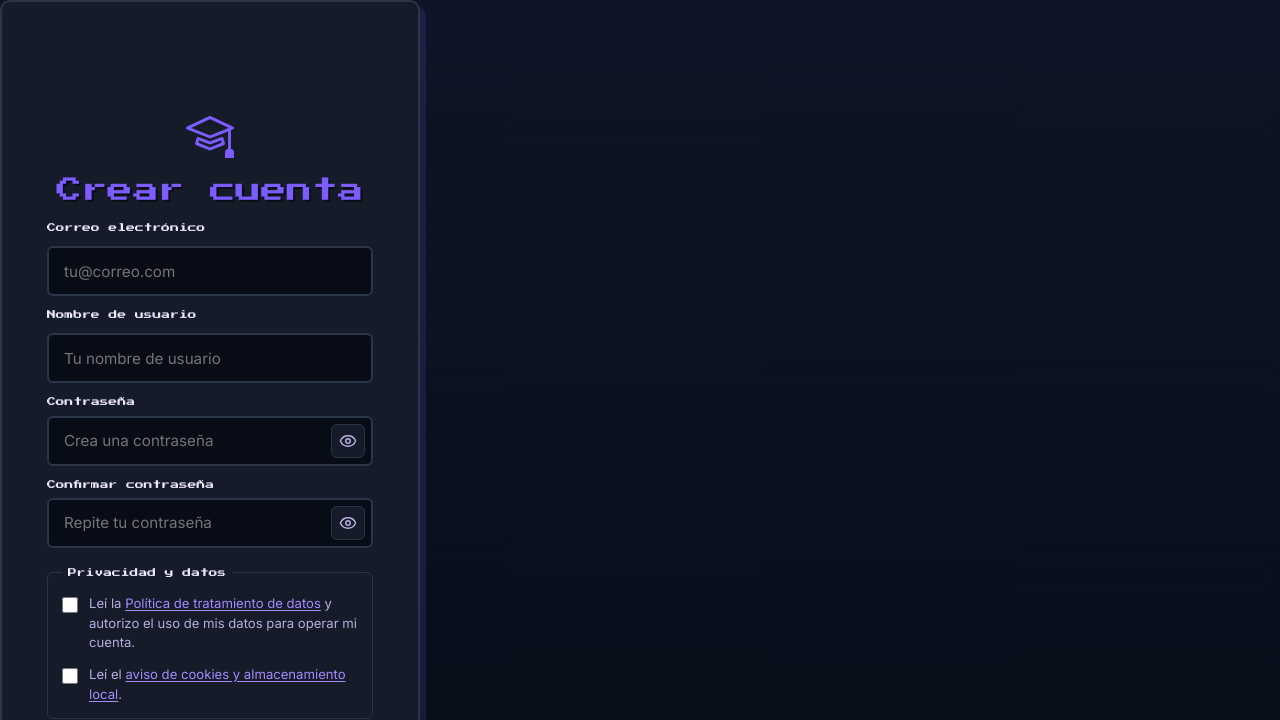
Test: CP-2 - Registro de usuario › rechaza una contraseña menor a ocho caracteres
The width and height of the screenshot is (1280, 720).
Type "prueba@acadex.com" into the field labelled "Correo electrónico" at point(210, 271), box [47,246,373,296]
Type "Usuario Prueba" into the field labelled "Nombre de usuario" at point(210, 358), box [47,333,373,383]
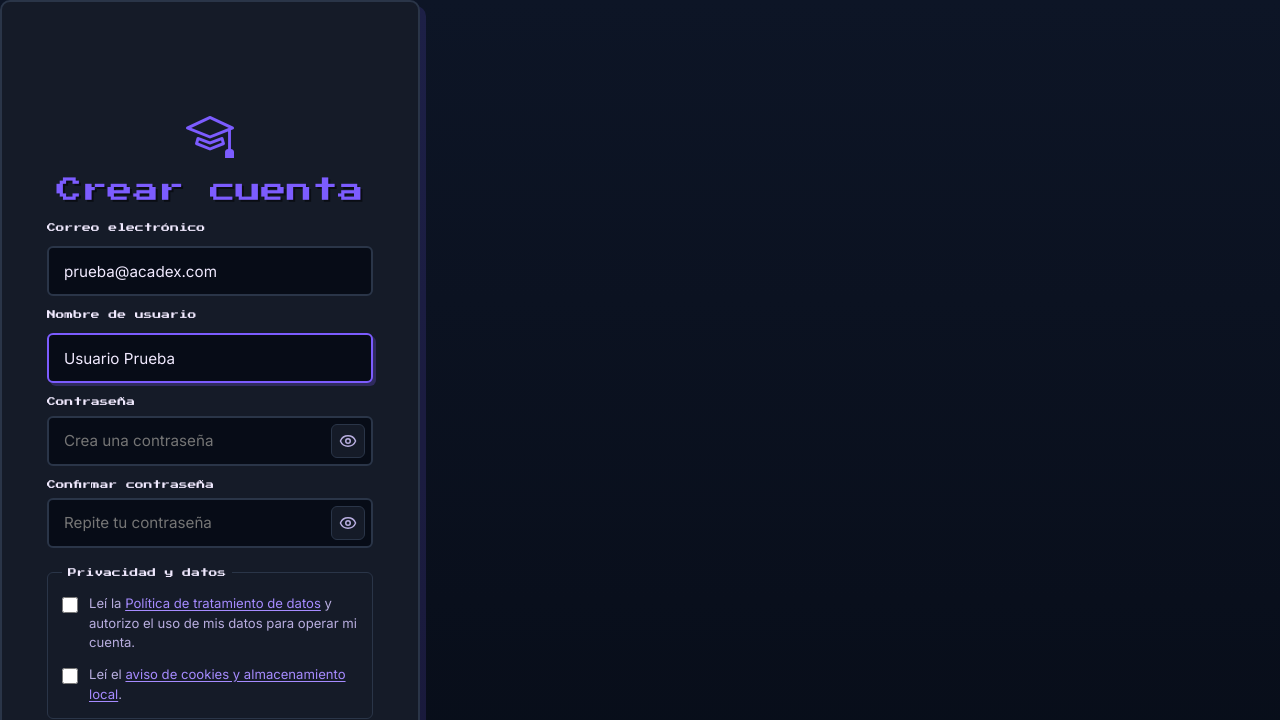
Type "1234567" into the password field labelled "Contraseña" at point(210, 441), box [47,416,373,466]
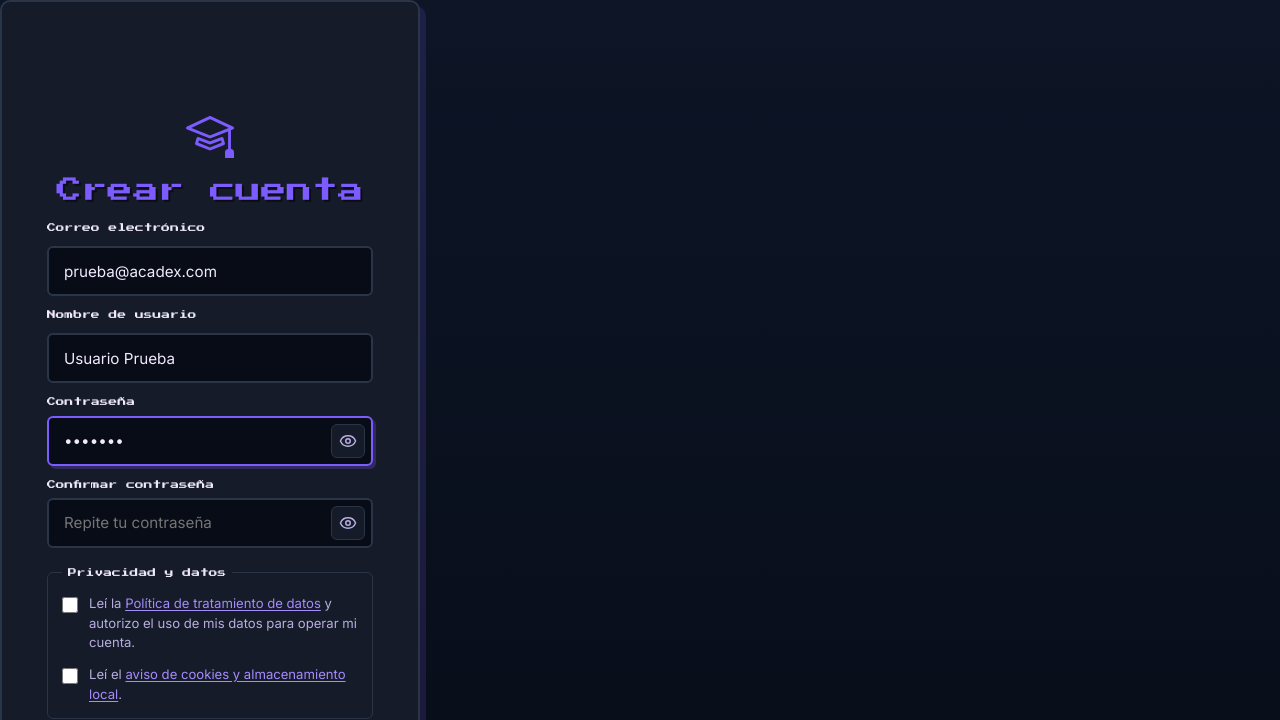
Type "1234567" into the password field labelled "Confirmar contraseña" at point(210, 523), box [47,498,373,548]
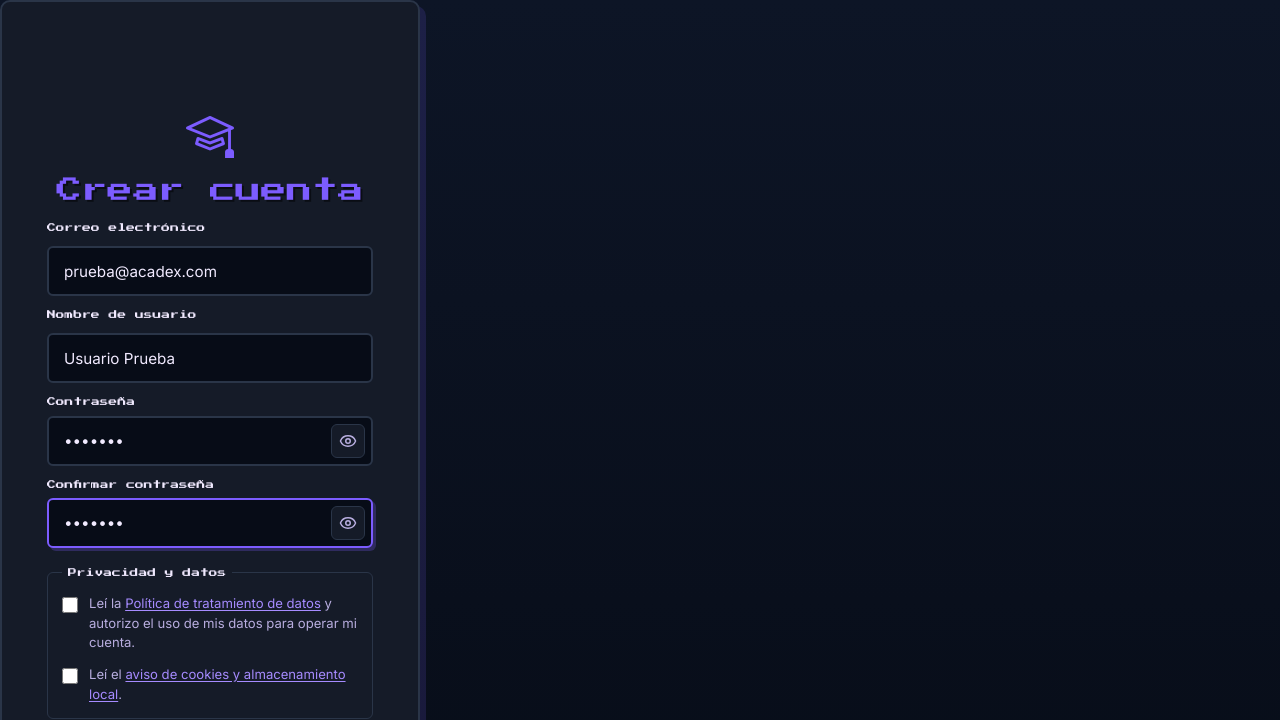
Click the checkbox labelled "Política de tratamiento de datos" at point(70, 605), box [62,597,78,613]
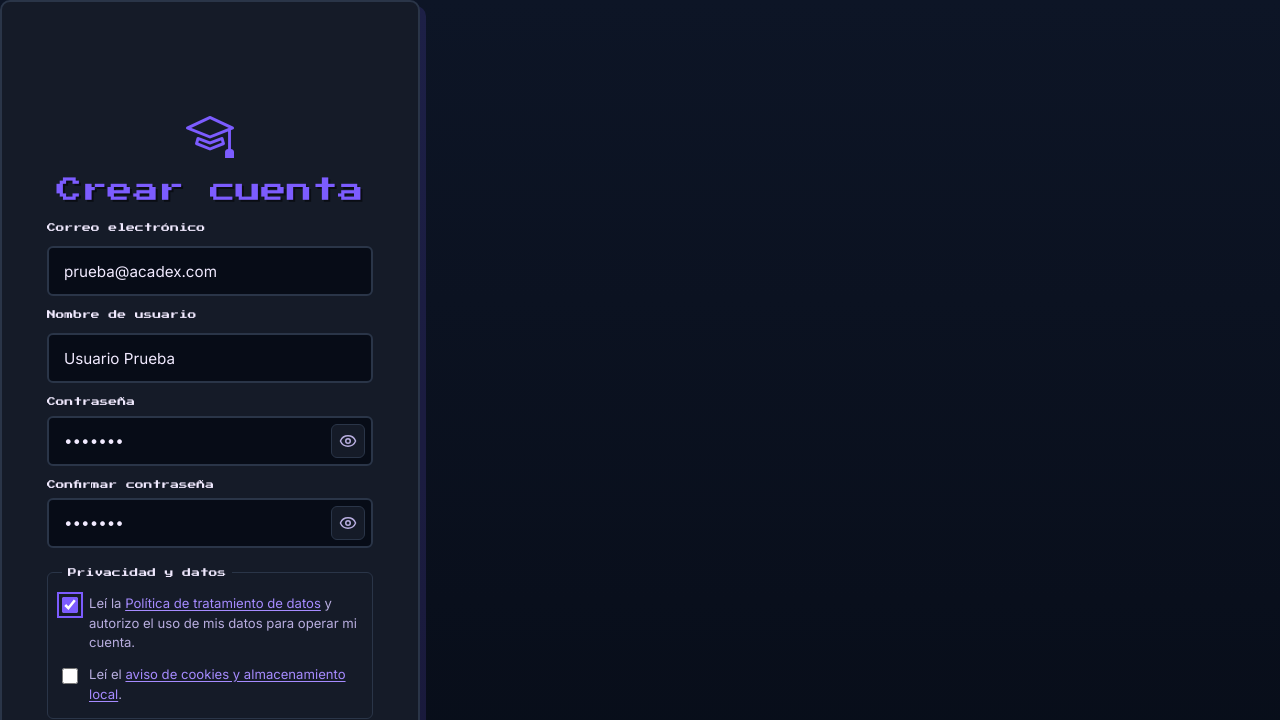
Click the checkbox labelled "Leí el aviso de cookies y almacenamiento local ." at point(70, 676), box [62,668,78,684]
(page scrolled)
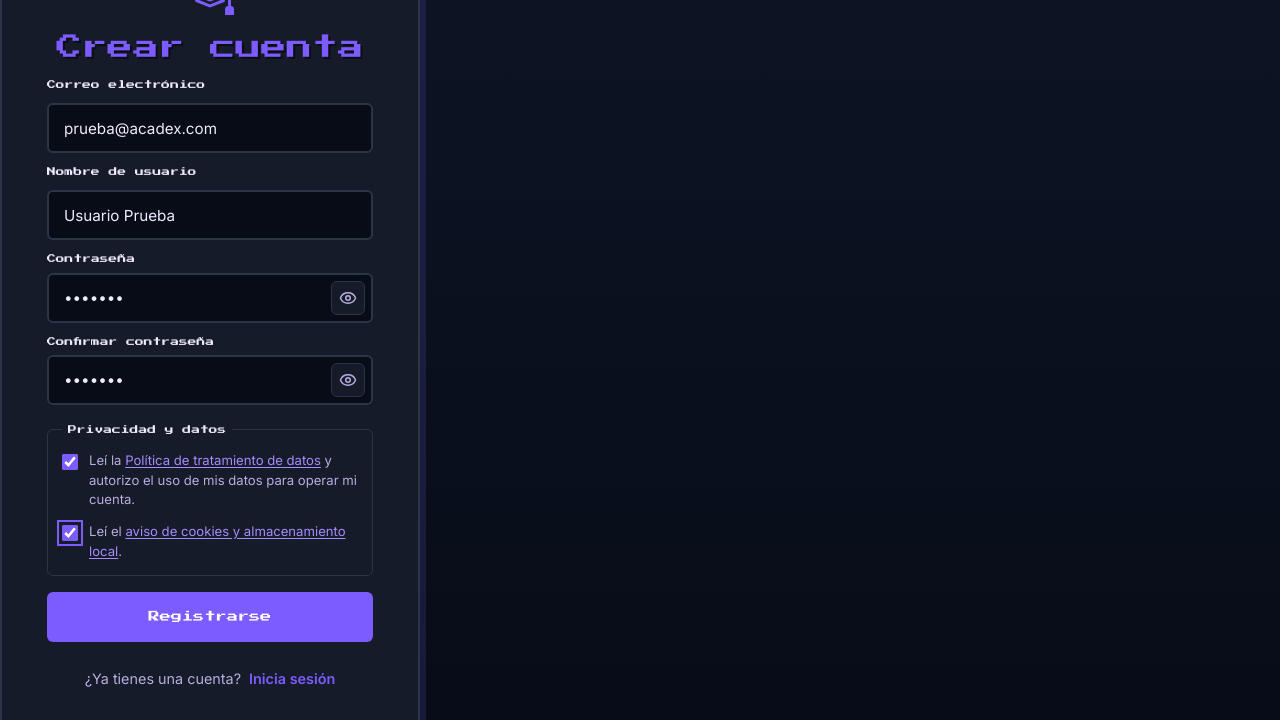
Submit the form, box [47,78,373,642]
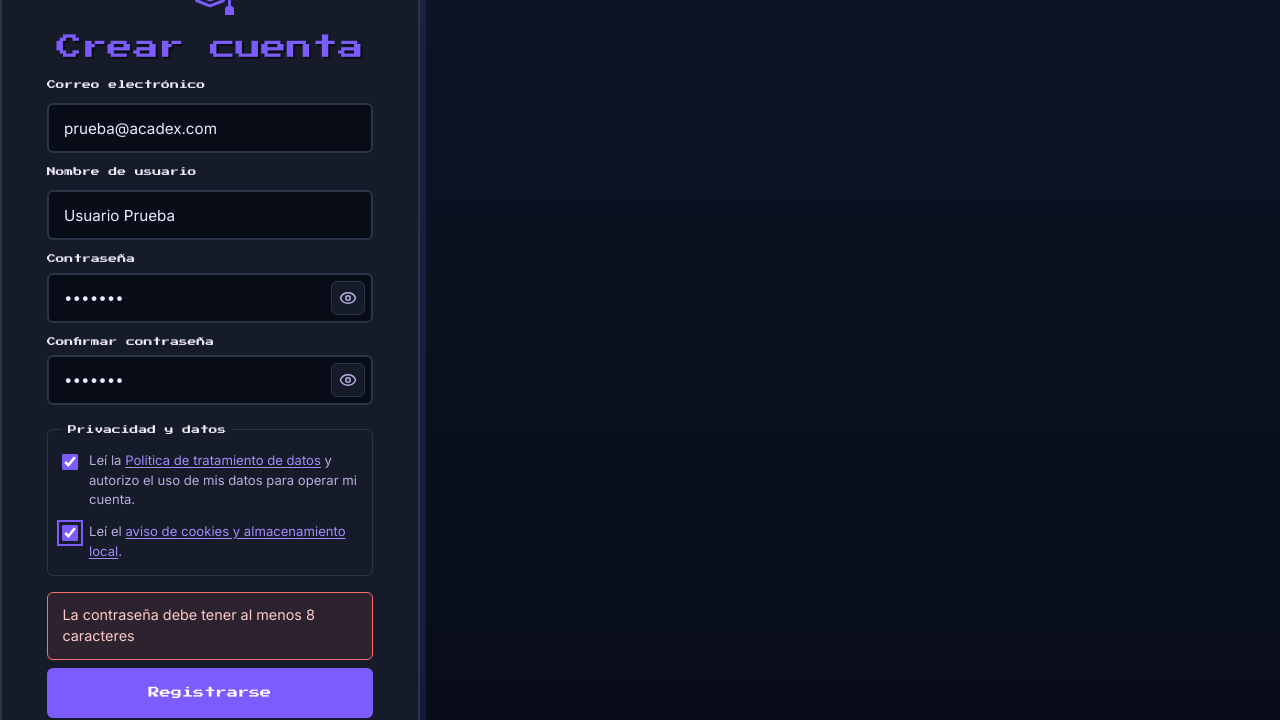
Result: the message reads "La contraseña debe tener al menos 8 caracteres" at [62,606,315,644]
